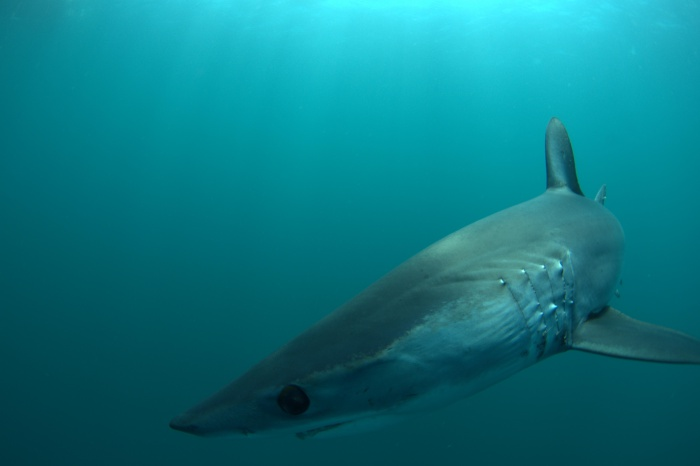Mako: (149, 106, 700, 458)
